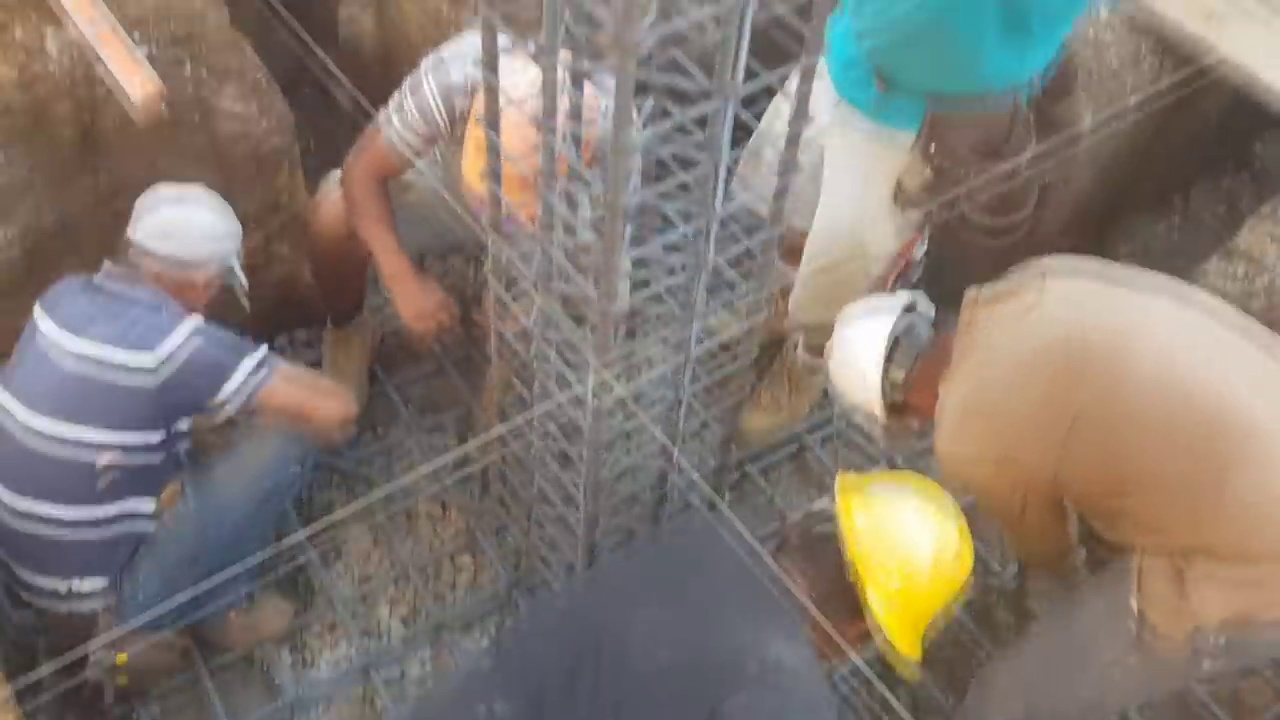helmet: (828, 469, 969, 668), (462, 59, 598, 213), (824, 287, 936, 453)
helmet-off: (110, 172, 240, 322)
helmet-on: (768, 458, 976, 675), (454, 54, 600, 244)
person: (824, 253, 1278, 715), (0, 171, 364, 714), (724, 0, 1093, 456), (291, 17, 669, 419), (398, 466, 976, 720)
